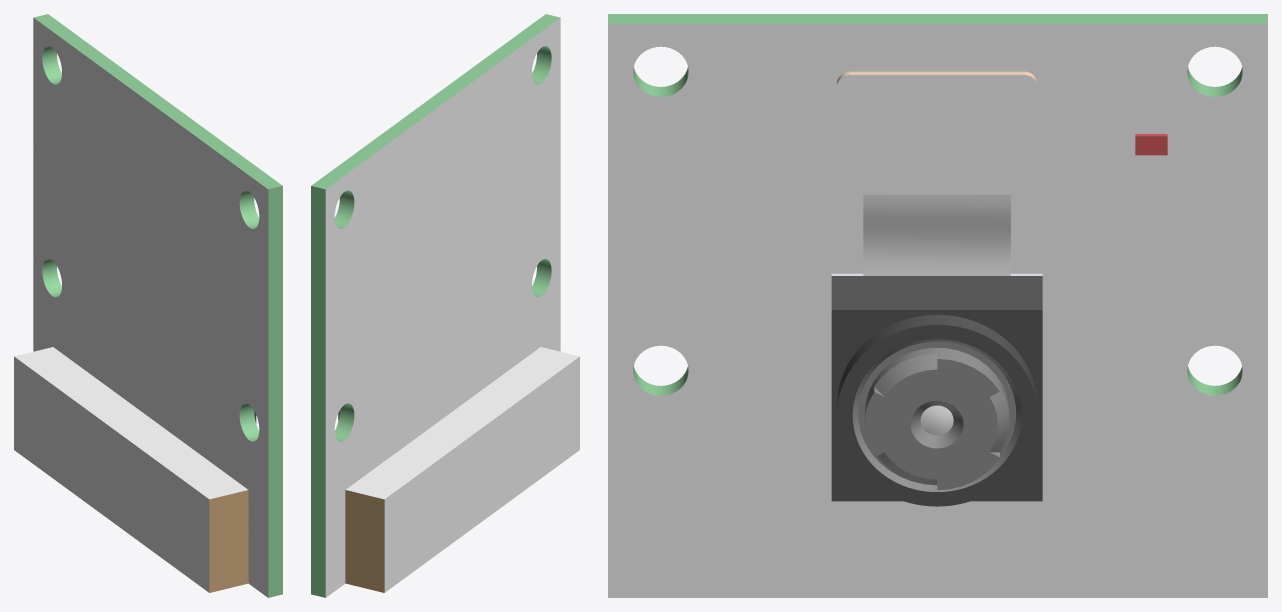
Rendered from raspicam.dae.
The picture shows the model from 3 angles, left to right: view 1: azimuth 30°, elevation 25°; view 2: azimuth 150°, elevation 25°; view 3: azimuth 270°, elevation 25°; orthographic projection. The views are drawn at different scales.
Parts seen in each view (by area): view 1: RasPi_Camera; view 2: RasPi_Camera; view 3: RasPi_Camera.
Part boxes in pixels (x1,y1,x2,y2): RasPi_Camera: [14, 14, 282, 597]; RasPi_Camera: [311, 14, 579, 597]; RasPi_Camera: [608, 14, 1267, 597].
Bounding box in the file's own units: 0.00825 × 0.025 × 0.024.
